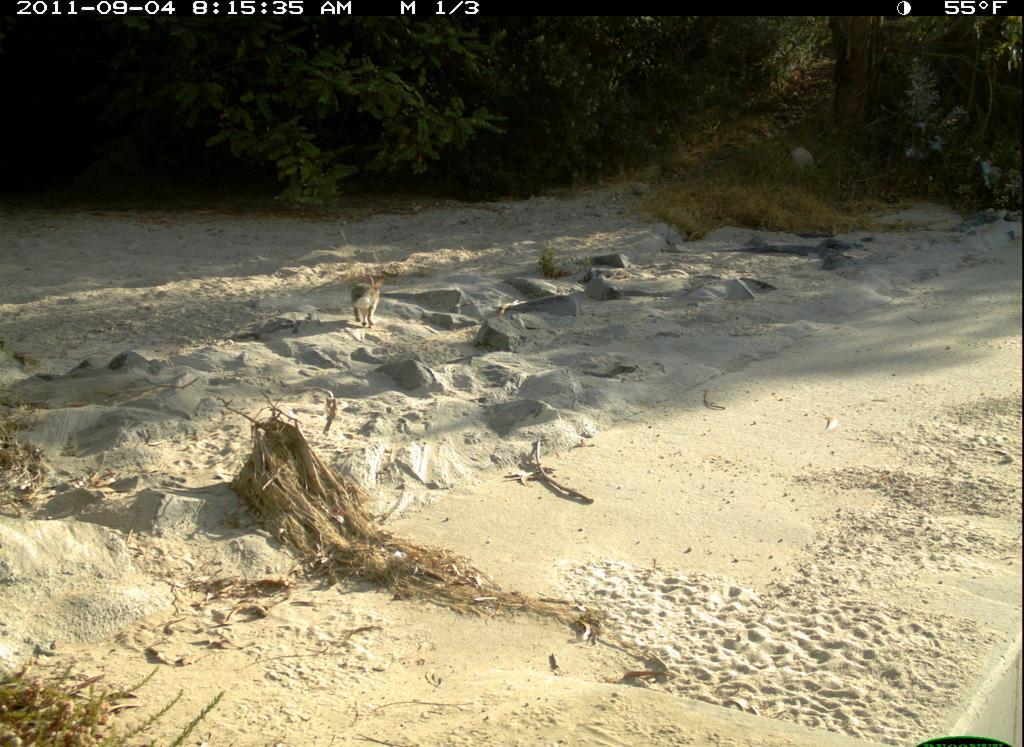rabbit: (340, 268, 391, 331)
